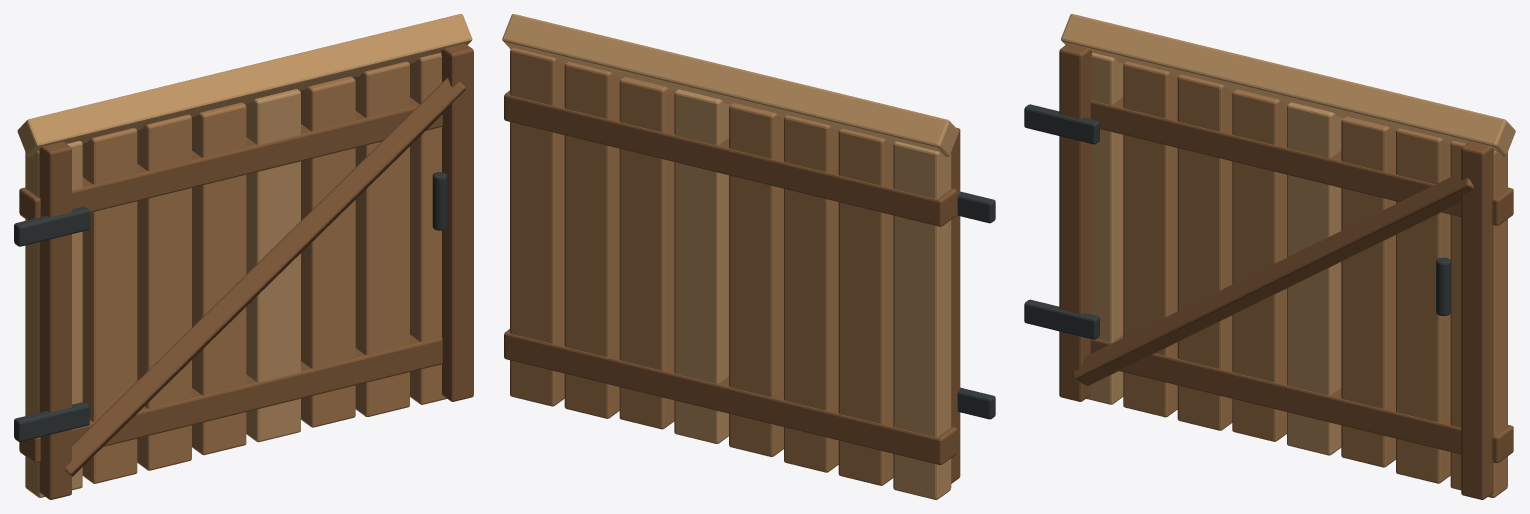
The model's file is SM_CreatorCoupleHouse_Gate.fbx.
3 renders of one model, left to right at view 1: azimuth 30°, elevation 25°; view 2: azimuth 150°, elevation 25°; view 3: azimuth 330°, elevation 25°, orthographic.
Parts seen in each view (by area): view 1: SM_CreatorCoupleHouse_Gate; view 2: SM_CreatorCoupleHouse_Gate; view 3: SM_CreatorCoupleHouse_Gate.
Part boxes in pixels (x1,y1,x2,y2): SM_CreatorCoupleHouse_Gate: [14, 14, 473, 499]; SM_CreatorCoupleHouse_Gate: [502, 14, 995, 499]; SM_CreatorCoupleHouse_Gate: [1024, 14, 1515, 499].
Size of what is drawn, in the model's own units: 162 by 20.48 by 125.
